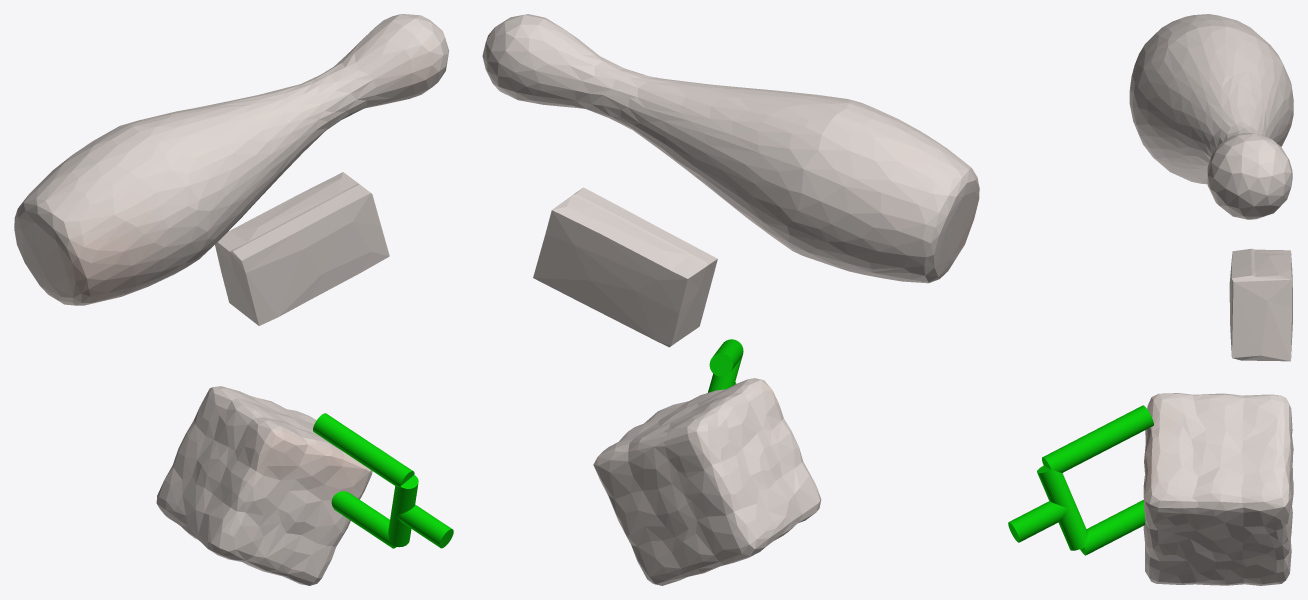
Rendered from round_000_trial_002.obj.
3 renders of one model, left to right at view 1: azimuth 30°, elevation 25°; view 2: azimuth 150°, elevation 25°; view 3: azimuth 270°, elevation 25°, orthographic. The views are drawn at different scales.
Visible parts, largest first — view 1: geometry_0, geometry_1; view 2: geometry_0, geometry_1; view 3: geometry_0, geometry_1.
Boxes of the visible parts, x1=… form: geometry_0: x1=14, y1=14, x2=448, y2=585; geometry_1: x1=313, y1=413, x2=453, y2=548; geometry_0: x1=482, y1=14, x2=979, y2=585; geometry_1: x1=708, y1=339, x2=743, y2=392; geometry_0: x1=1129, y1=14, x2=1293, y2=585; geometry_1: x1=1008, y1=405, x2=1153, y2=555.
Bounding box in the file's own units: 0.2221 × 0.2453 × 0.123.
